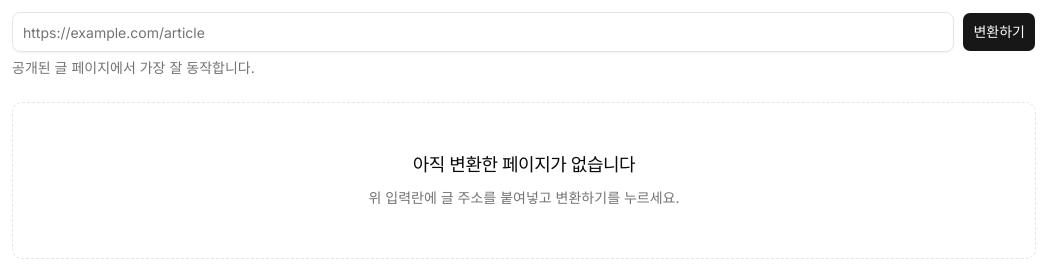
Test: Converter › shows an error for a malformed URL and keeps the input
Type "not a url" into the field named "변환할 URL".
click(483, 32); type("not a url")  # box [12,12,954,52]
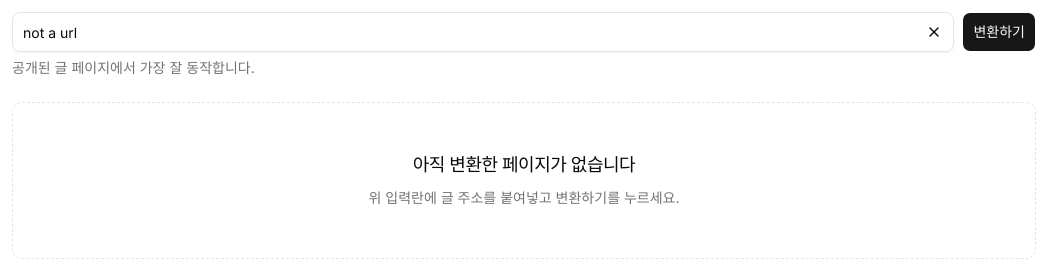
Click the button "변환하기".
click(999, 32)  # box [962,12,1036,52]
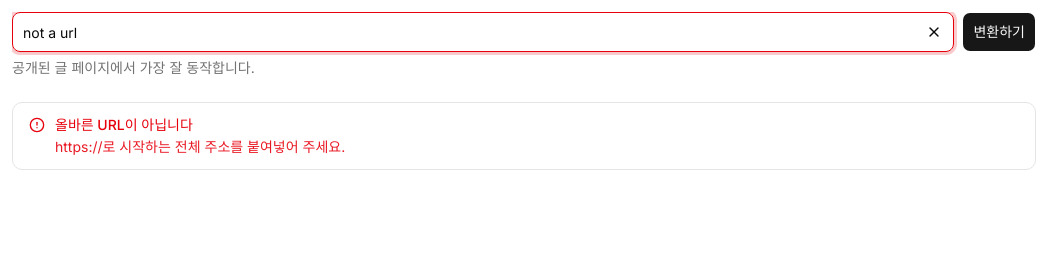
Check: the message shows "올바른 URL이 아닙니다", box [55,116,193,133]
